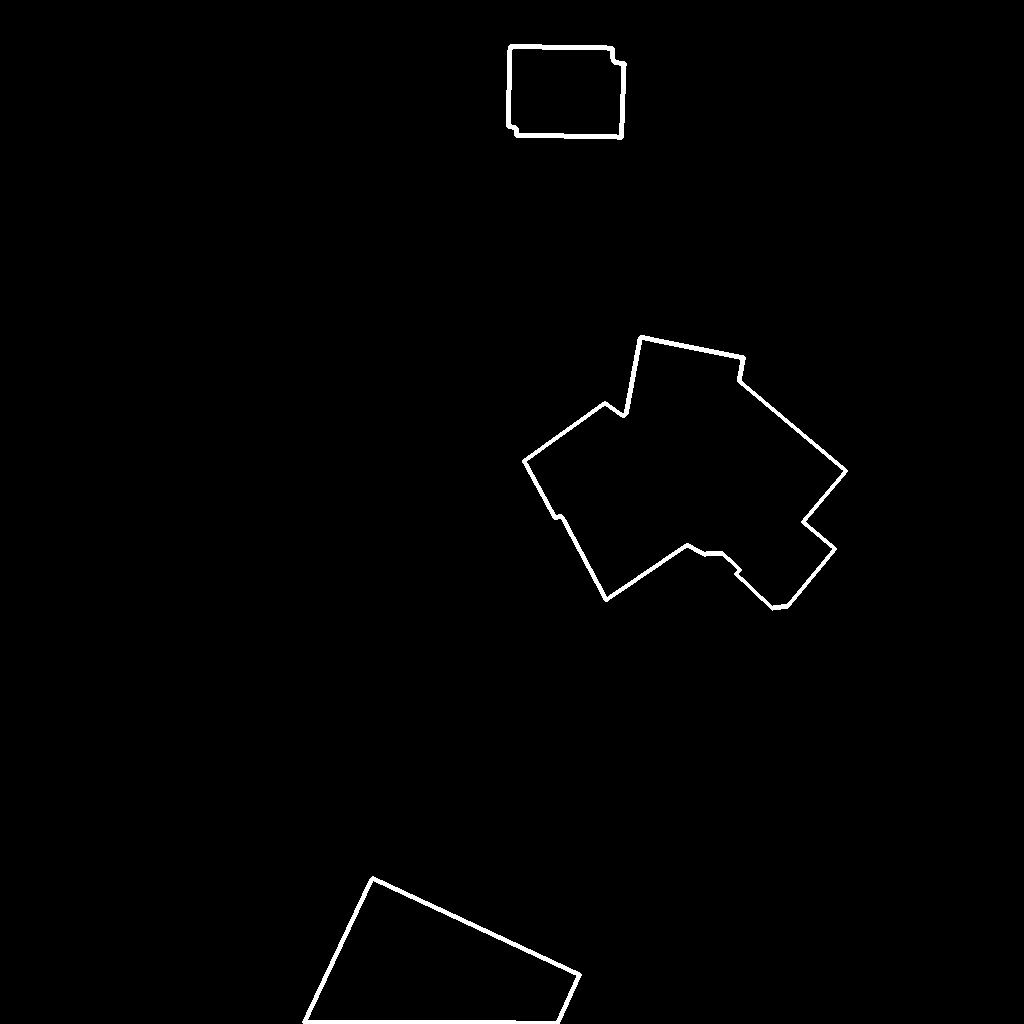building: (524, 337, 847, 609), (304, 878, 581, 1024), (508, 46, 625, 138)
